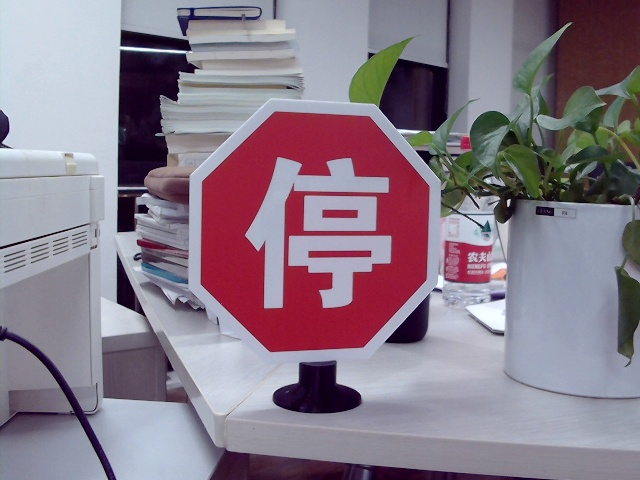stop: (245, 146, 396, 306)
